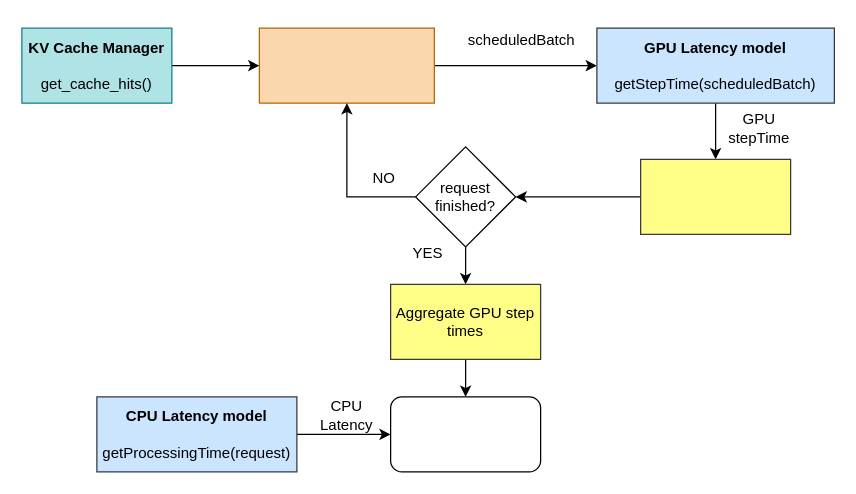
Image size: 856x494. Some labels were removed from this diagram. The shapes that lost their labels are listed below. From the top down, each one's centre as x and y in pixels, then its label:
the point at 346,65: Scheduler scheduler.schedule()
the point at 715,196: sim.Clock.advance
the point at 465,434: TTFT, ITL, E2E
